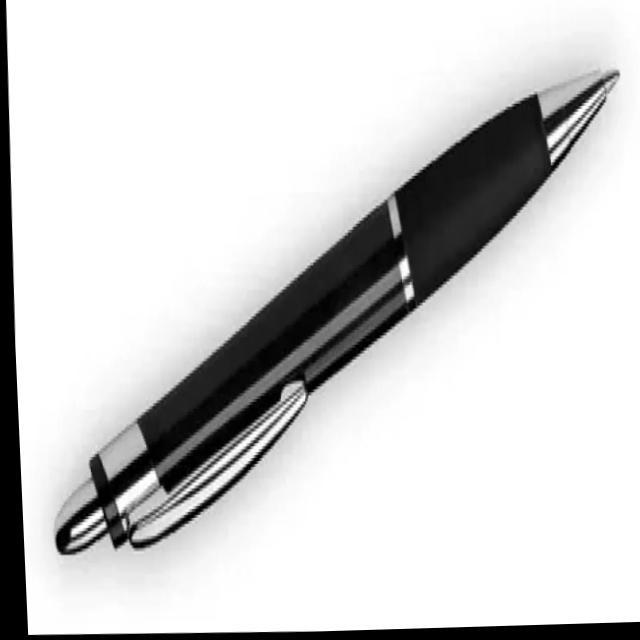pencil: (41, 61, 630, 599)
